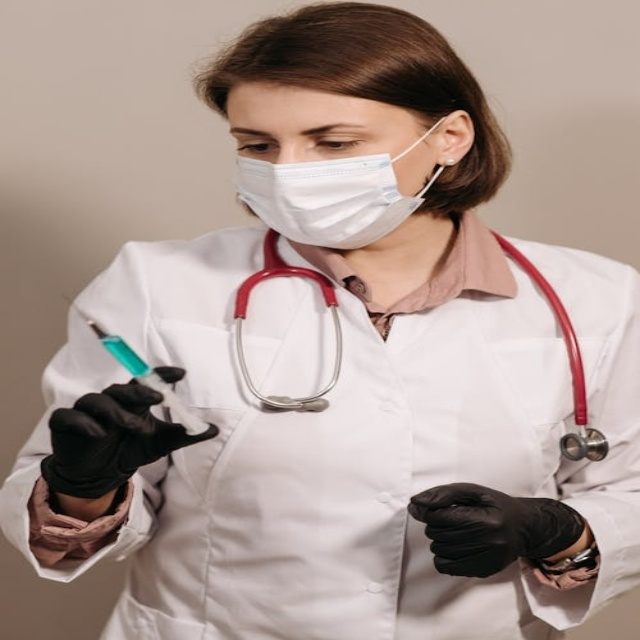Guantes: (40, 378, 218, 498), (407, 483, 590, 581)
Mascara: (225, 148, 434, 249)
Sin_gafas: (225, 119, 402, 160)
